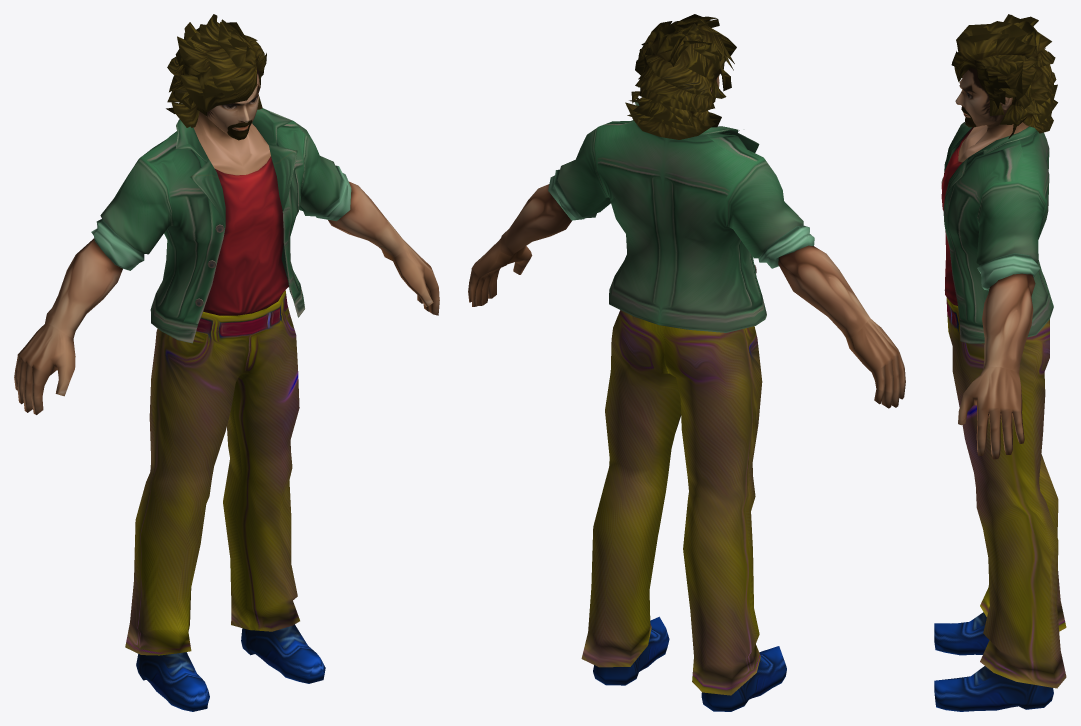
The picture shows the model from 3 angles, left to right: view 1: azimuth 30°, elevation 25°; view 2: azimuth 150°, elevation 25°; view 3: azimuth 270°, elevation 25°; orthographic projection. The views are drawn at different scales.
Visible parts, largest first — view 1: ch4; view 2: ch4; view 3: ch4.
Boxes of the visible parts, bbox=[...] form: ch4: bbox=[14, 14, 439, 711]; ch4: bbox=[468, 14, 905, 711]; ch4: bbox=[934, 14, 1066, 711].
Size of the model in its own units: 53.72 by 81.36 by 14.91.
